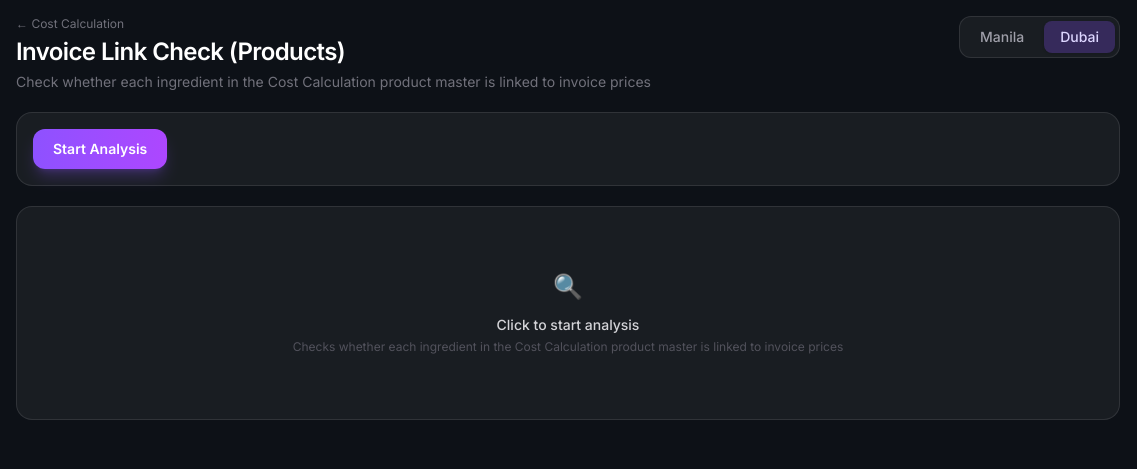
CostCheckPage — analyze button › shows error message when analyze API fails
The image size is (1137, 469).
Check: the heading "Invoice Link Check (Products)" is shown, box [16,37,345,66]
Step 1. Click the button "Start Analysis" → click(100, 149), box [33,129,167,169]
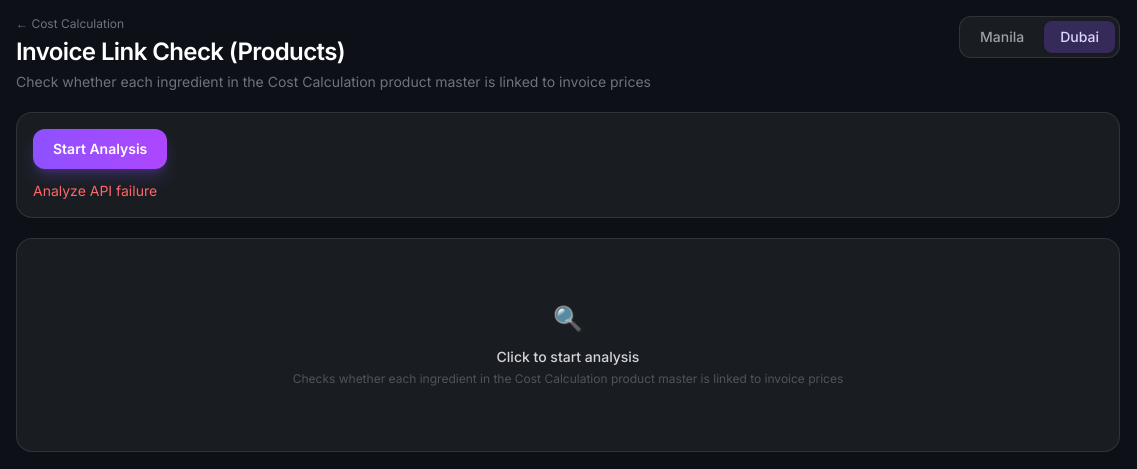
Check: the text "Analyze API failure" is shown, box [33,182,157,199]
